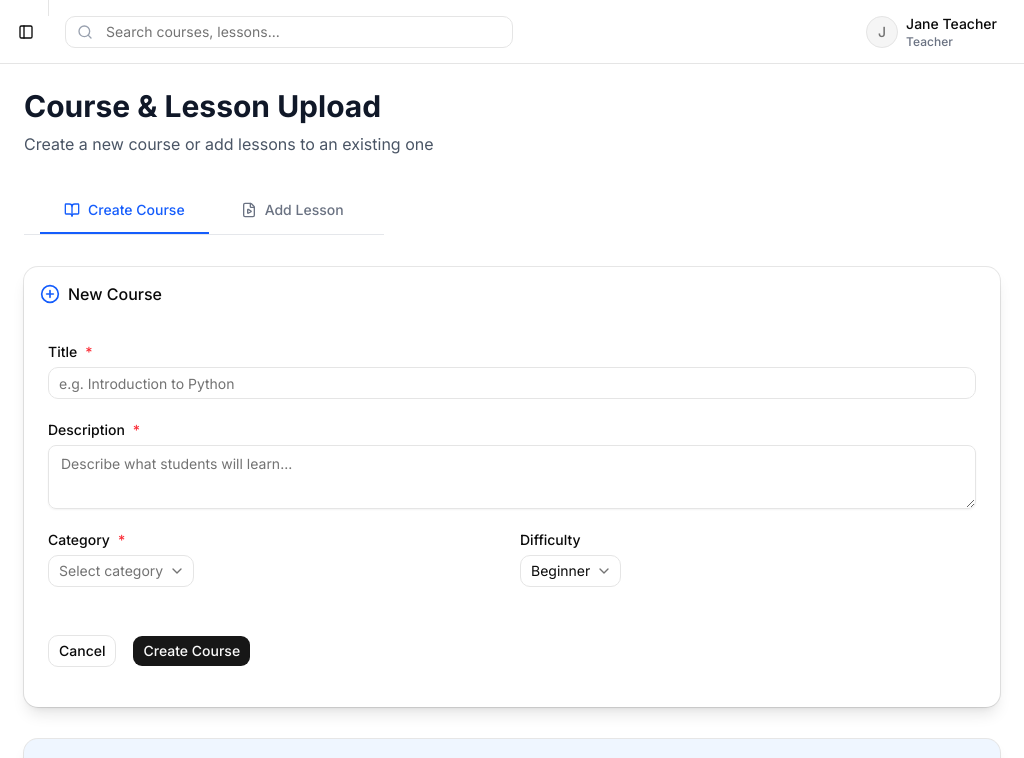
Test: Teacher Upload Page - Form Validation (9.2) › shows error when course title is empty (P2.3.2)
This screenshot has width=1024, height=758.
Type "Some description" into the text box labelled "Description *".
click(512, 477); type("Some description")  # box [48,445,976,509]
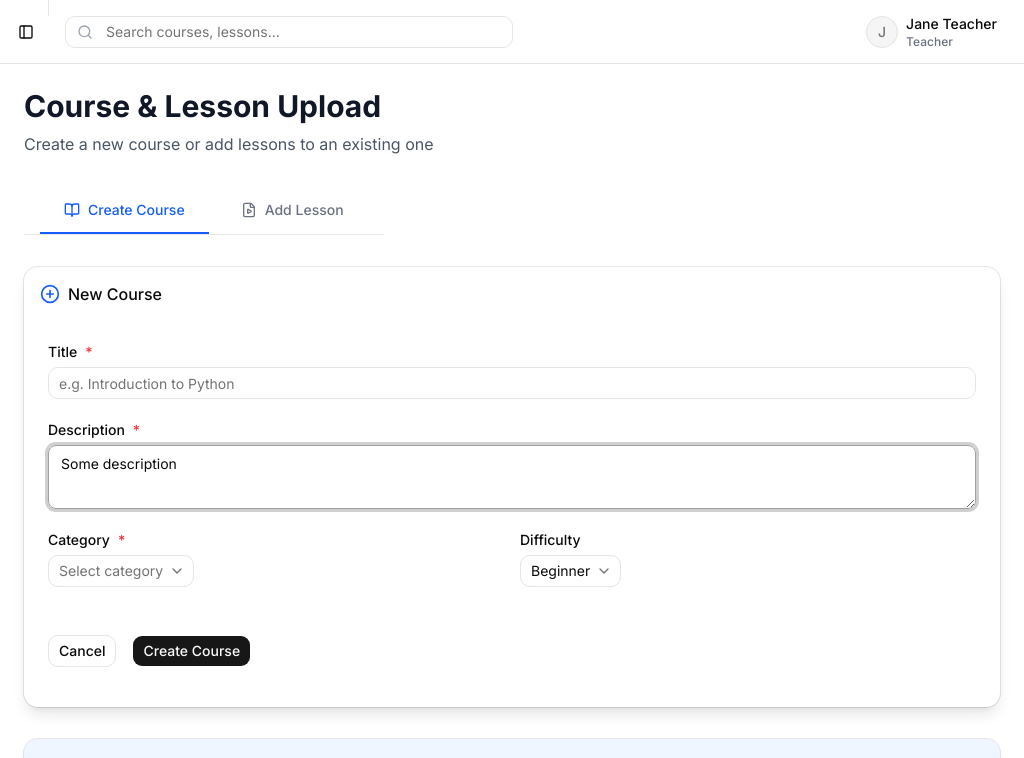
Click the dropdown labelled "Select category".
click(121, 571)  # box [48,555,194,587]
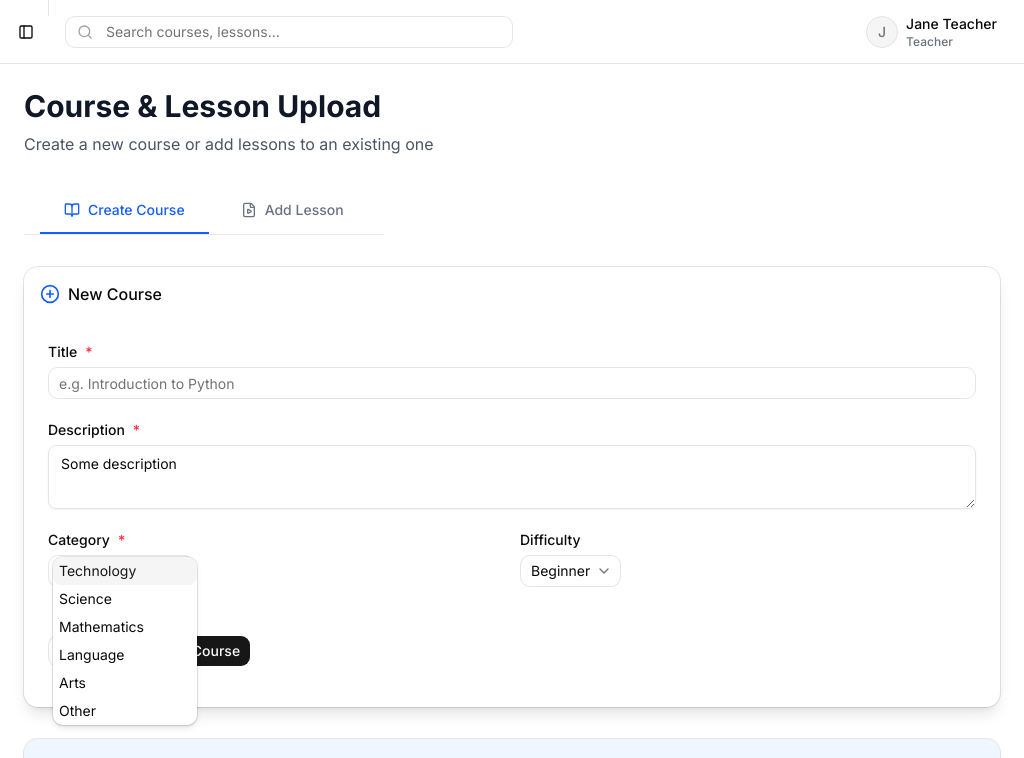
Now the option "Technology" is shown
Click the option "Technology".
click(125, 571)  # box [53,557,197,585]
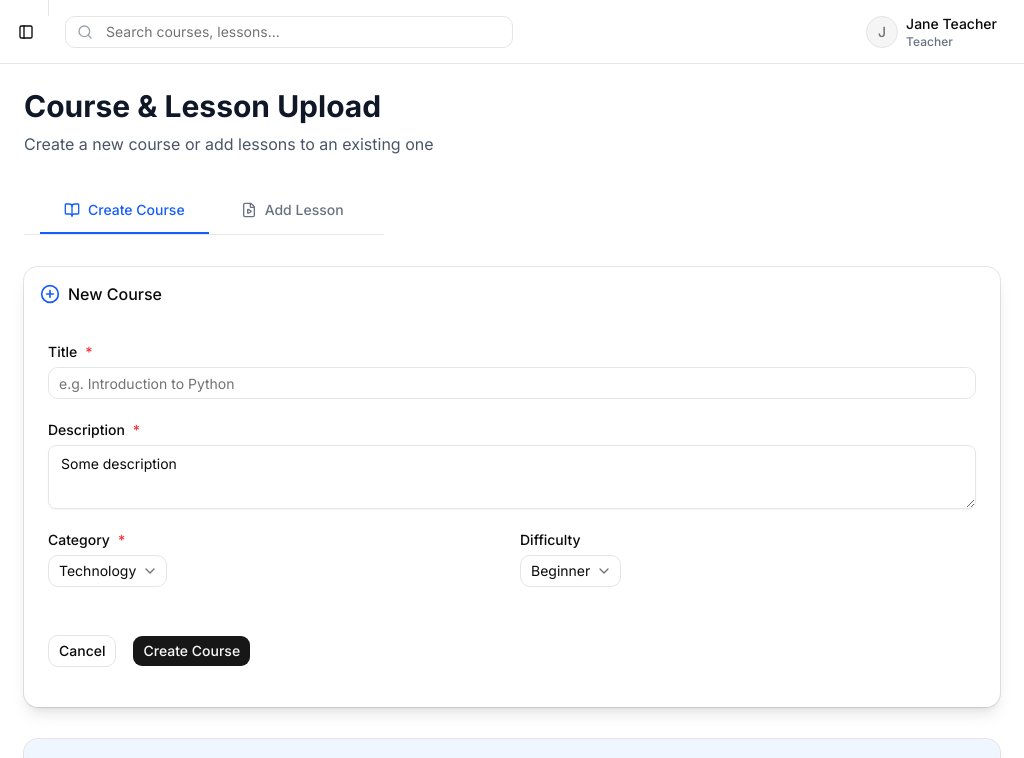
Submit the form, box [48,345,976,667]
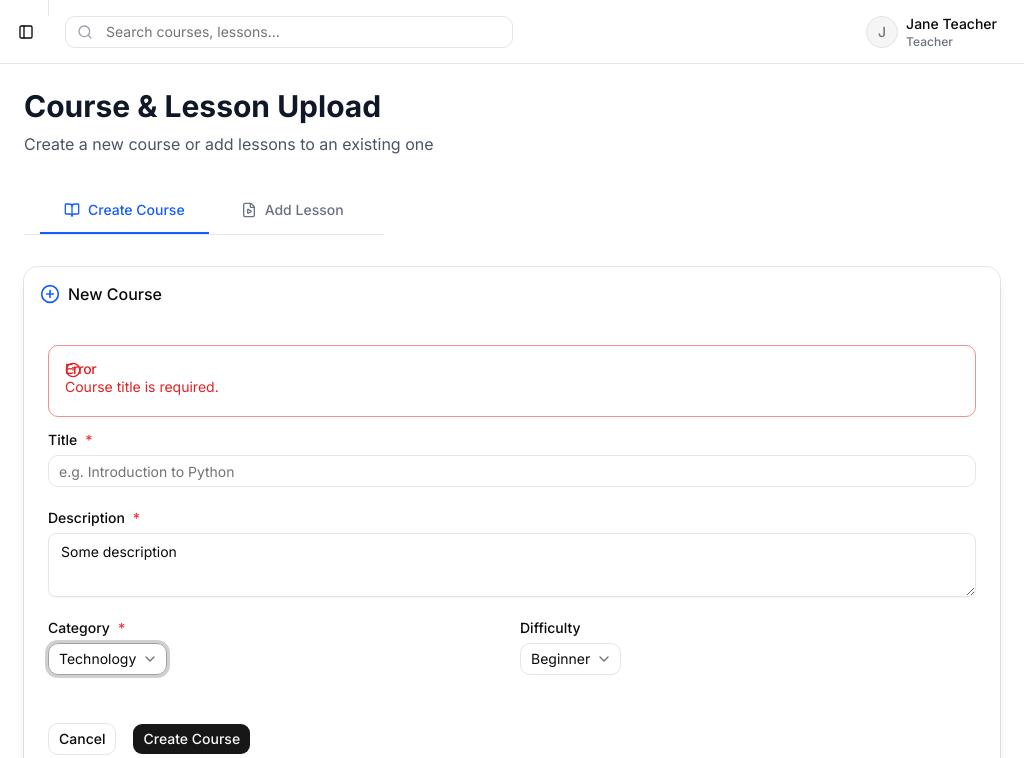
Now the text "Course title is required." is shown, box [65,378,219,395]
